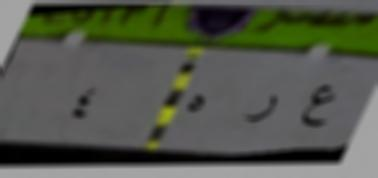4: (70, 82, 100, 124)
ain: (298, 76, 337, 136)
haa: (179, 86, 210, 118)
raa: (239, 88, 280, 130)
